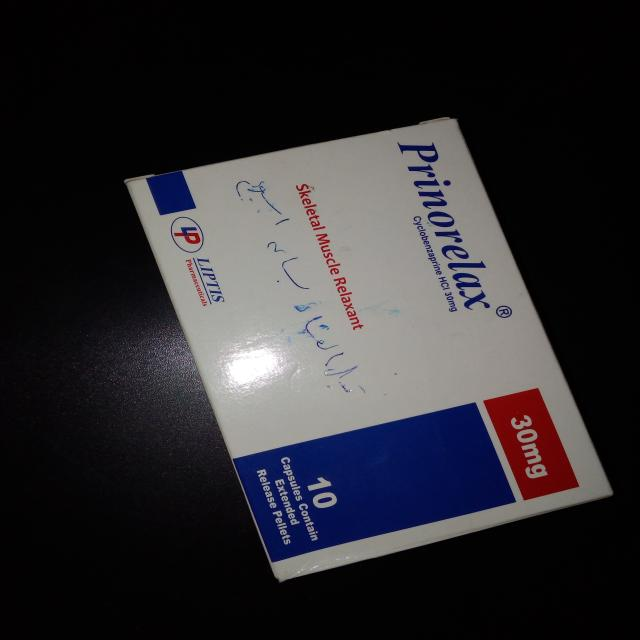Medicine: (123, 111, 617, 585)
